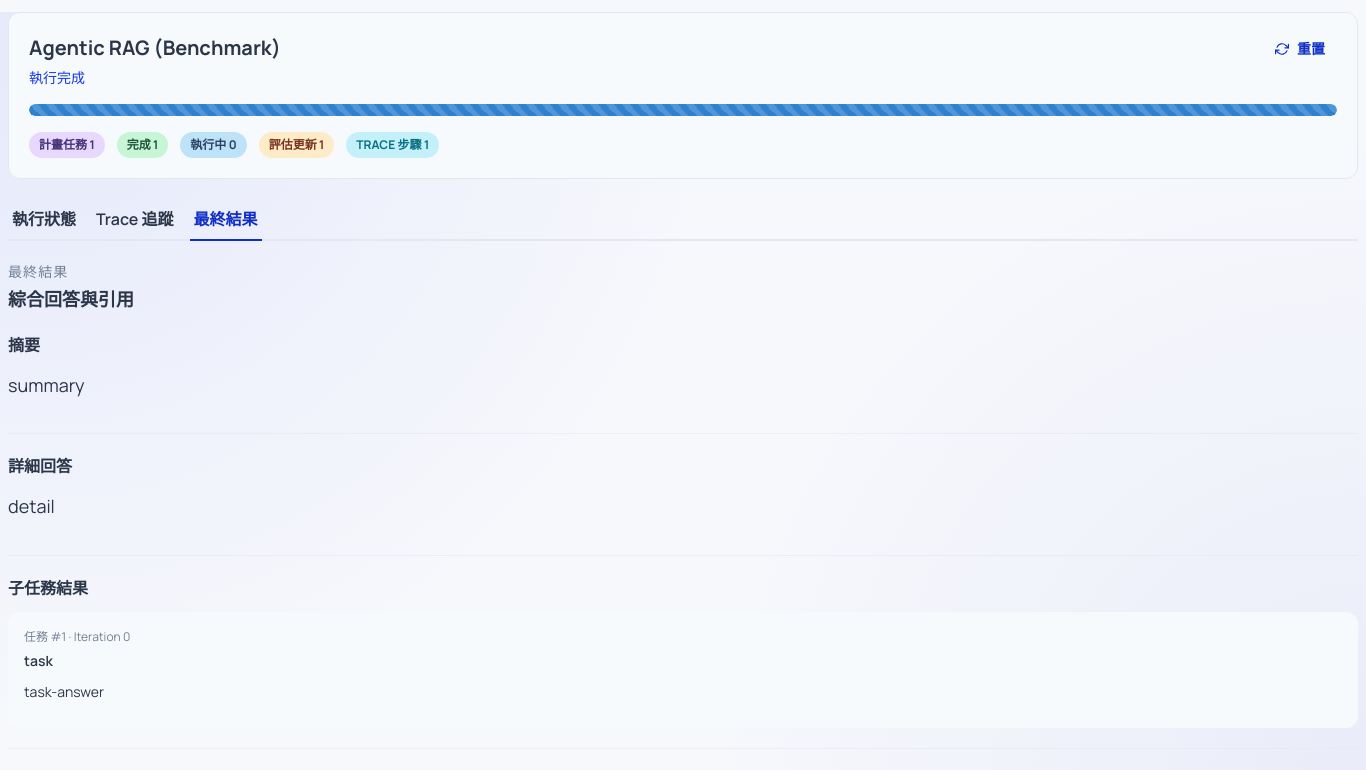
Scenario: AgenticBenchmarkPanel › switches tabs and shows the selected panel content
Click the tab "Trace 追蹤" at x=135, y=220, box [92,199,178,241]
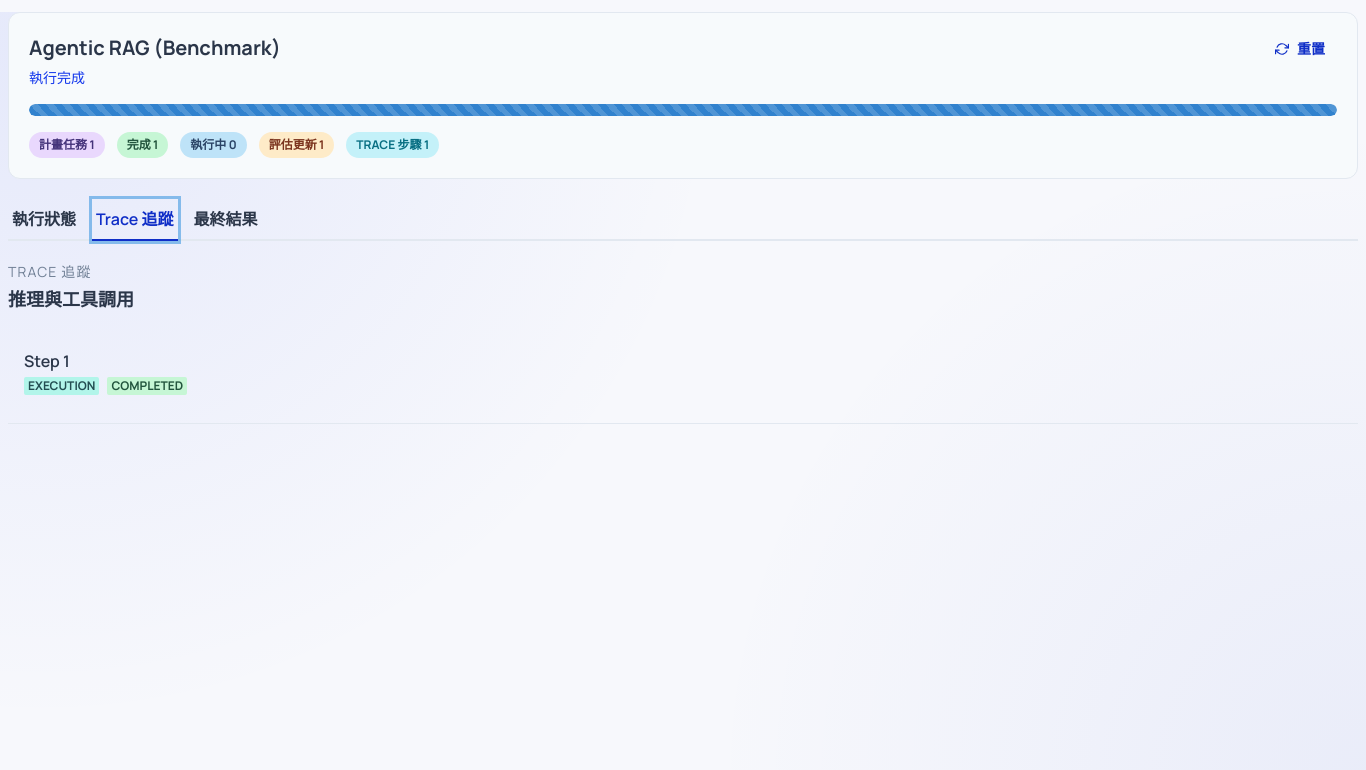
Expected: the text "推理與工具調用" is shown, [8,287,134,311]
Click the tab "最終結果" at x=226, y=220, box [190,199,262,241]
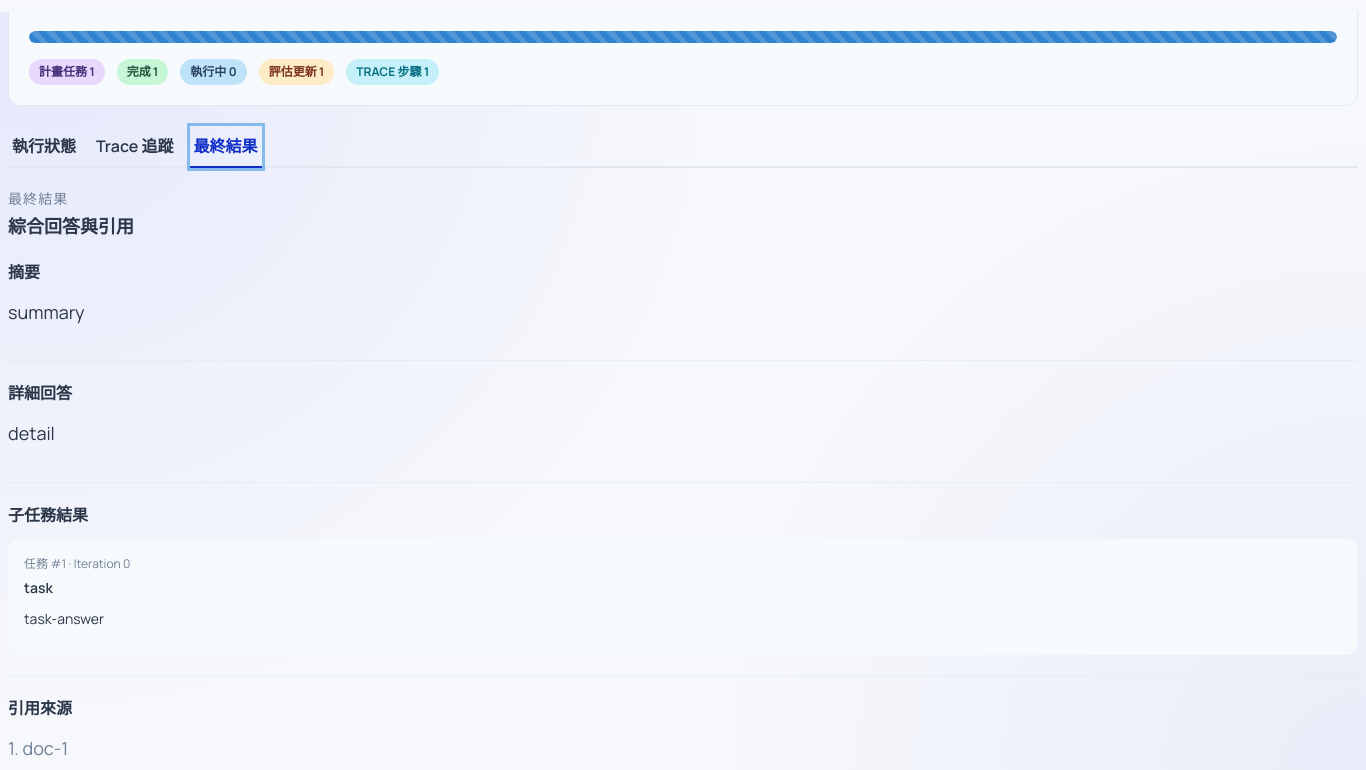
Expected: the text "summary" is shown, [8,300,84,324]
Expected: the text "detail" is shown, [8,421,55,445]
Expected: the text "子任務結果" is shown, [8,504,88,526]
